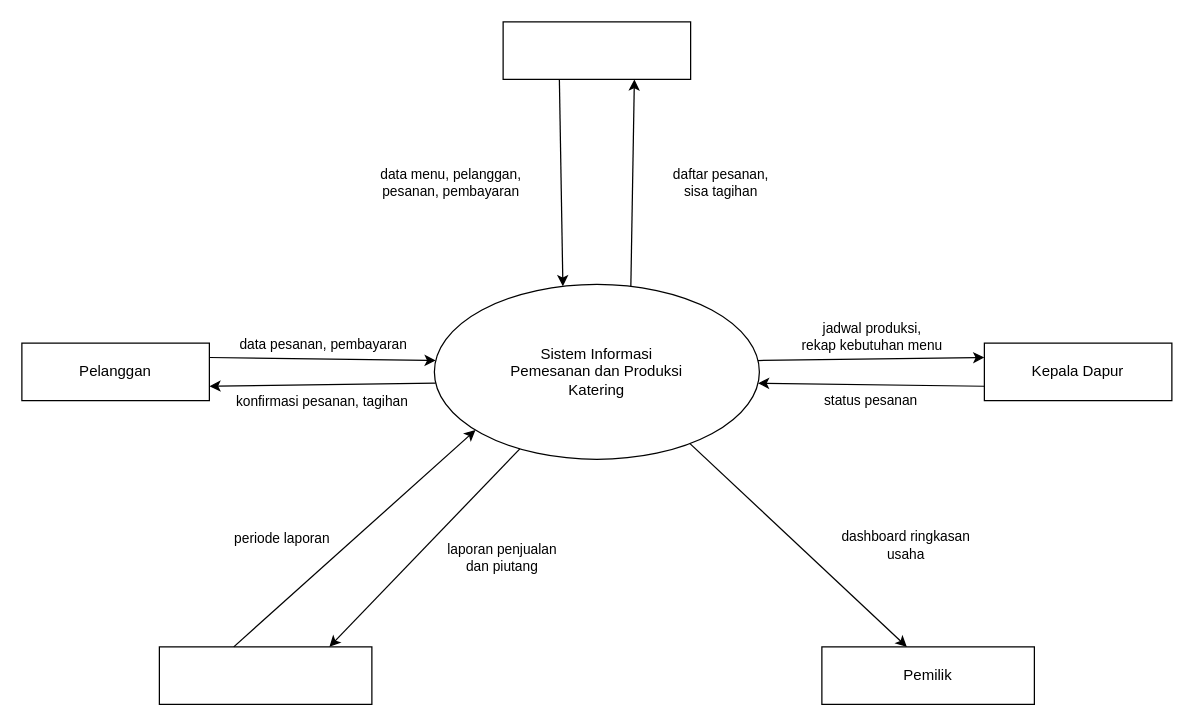
This 1194x726 diagram has some shape labels left out. Here are the shapes that lost their labels. From the top down, the centre of each, then its label:
pixel 596 50: Admin Pemesanan
pixel 265 675: Manajer Operasional
